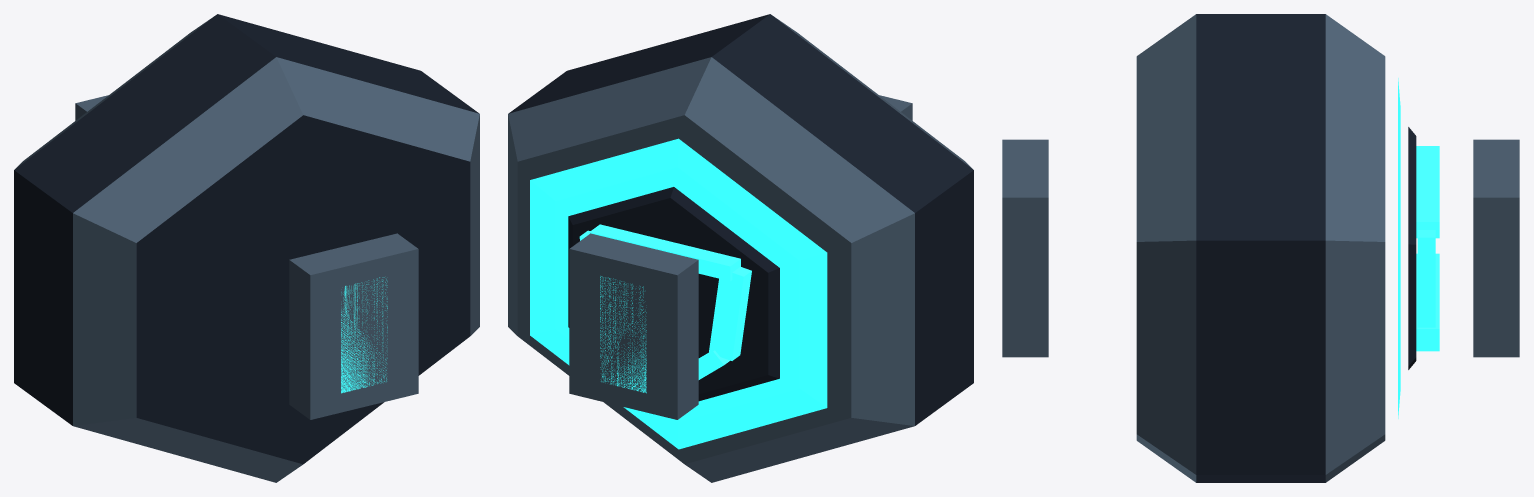
File: prop-pod-shield-4173c9c6.glb
3 views of the same model, side by side, from view 1: azimuth 30°, elevation 25°; view 2: azimuth 150°, elevation 25°; view 3: azimuth 270°, elevation 25° (orthographic). The views are drawn at different scales.
Parts seen in each view (by area): view 1: prop-pod-shield_body; view 2: prop-pod-shield_body; view 3: prop-pod-shield_body.
Part boxes in pixels (x1=…): prop-pod-shield_body: x1=14, y1=14, x2=479, y2=482; prop-pod-shield_body: x1=508, y1=14, x2=973, y2=482; prop-pod-shield_body: x1=1002, y1=14, x2=1519, y2=482.
Bounding box in the file's own units: 2 × 2 × 2.
